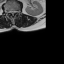CCS_normal: (12, 8, 14, 17)
LFS_stenosis: (15, 9, 17, 14)
LLS_normal: (14, 8, 15, 15)
RFS_normal: (7, 9, 9, 14)
RLS_normal: (9, 8, 12, 15)
